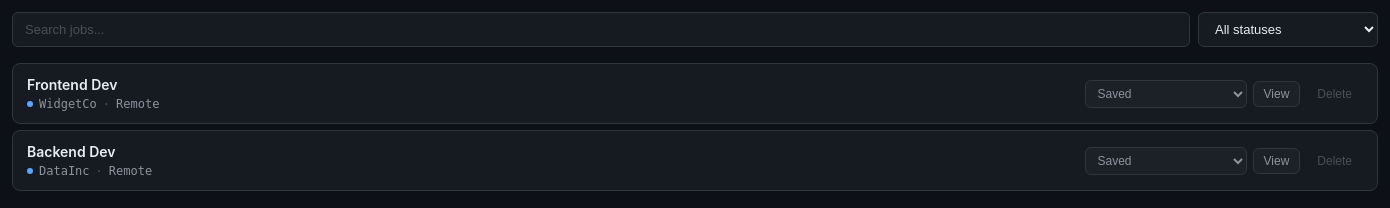
JobsTab › filters jobs by search text
Type "Frontend" into the field with placeholder "Search jobs...".
click(601, 30); type("Frontend")  # box [12,12,1190,47]
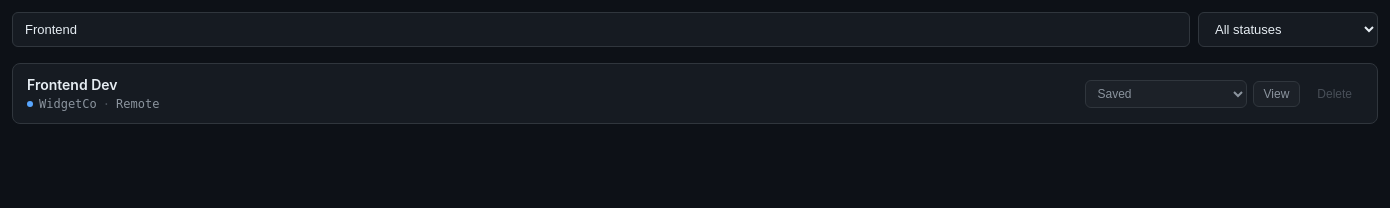
Check: the text "Frontend Dev" is shown, box [27,76,118,93]
Check: the text "Backend Dev" is gone
